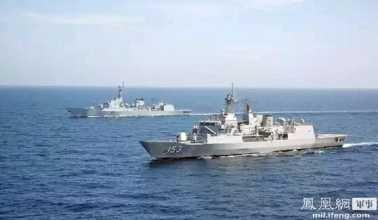warship: (141, 84, 346, 160), (66, 81, 183, 121)
